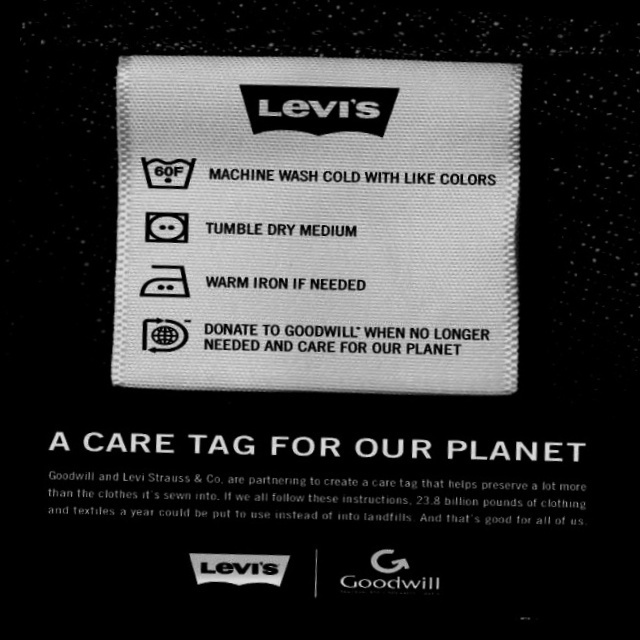30C: (136, 145, 202, 198)
iron_medium: (135, 256, 198, 306)
tumble_dry_medium: (137, 206, 196, 251)
